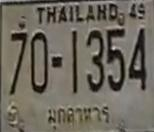0: (30, 31, 49, 92)
1: (71, 30, 79, 95)
3: (86, 30, 104, 91)
4: (128, 27, 146, 90)
5: (107, 28, 125, 91)
7: (10, 32, 28, 94)
MDH: (43, 100, 114, 131)
